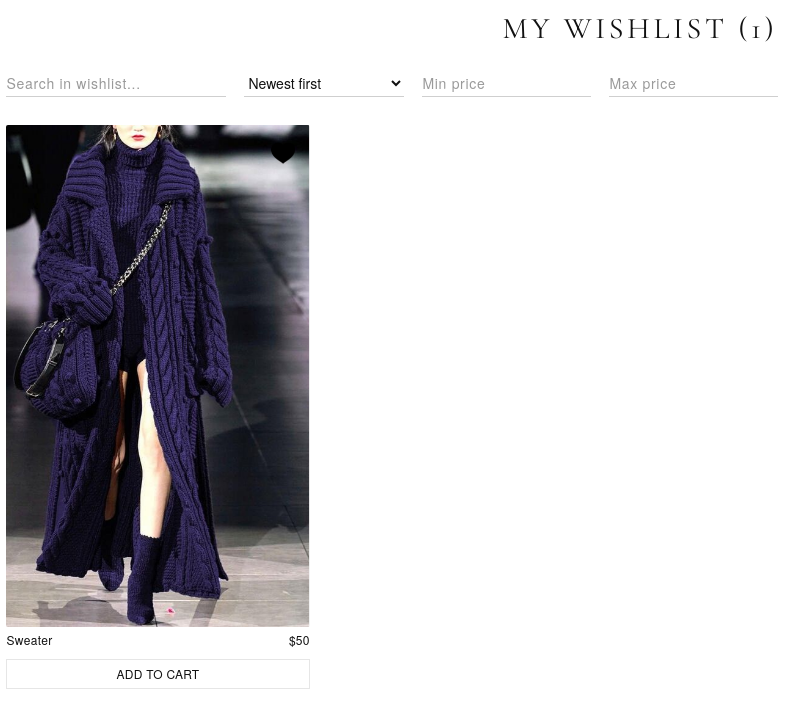
Test: WishList - removing items › removes an item from the grid and refreshes the wishlist count
This screenshot has width=795, height=706.
Expected: the text "Sweater" is shown, [6,633,53,647]
Click the button named "Remove from wishlist" at (283, 152), box [266,135,300,169]
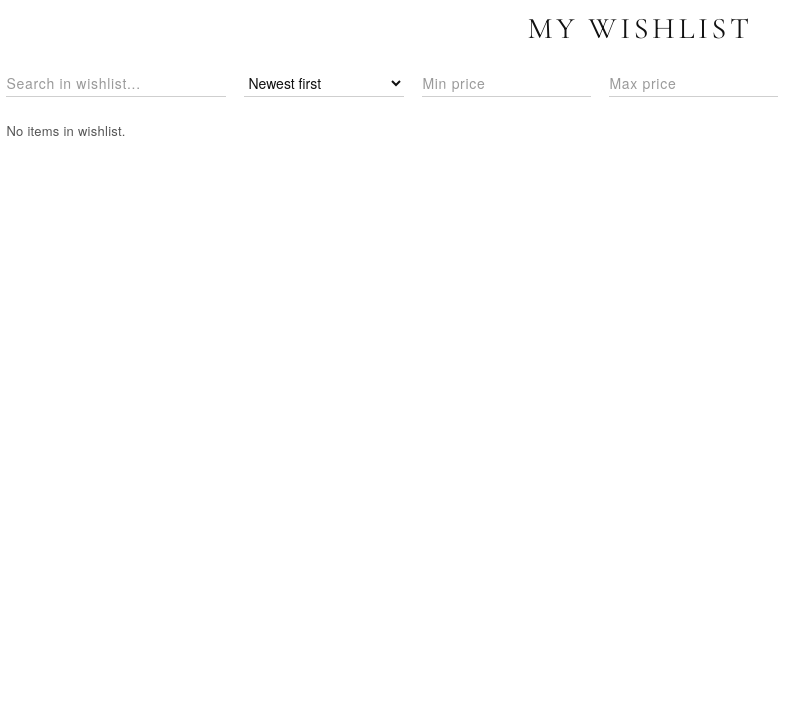
Expected: the text "Sweater" is gone
Expected: the text "No items in wishlist." is shown, [6,121,126,140]
